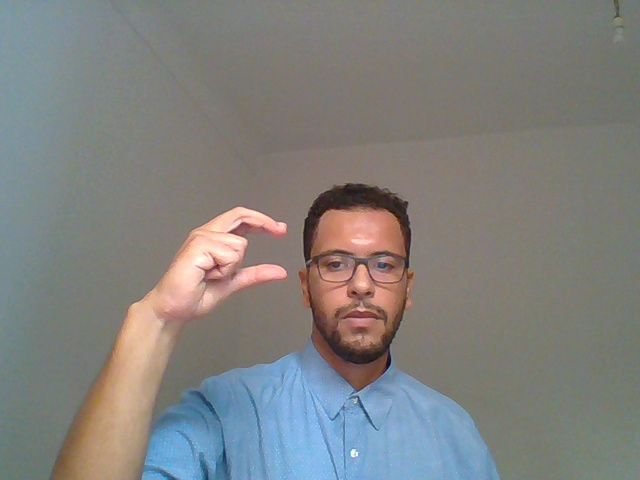no: (74, 173, 291, 389)
